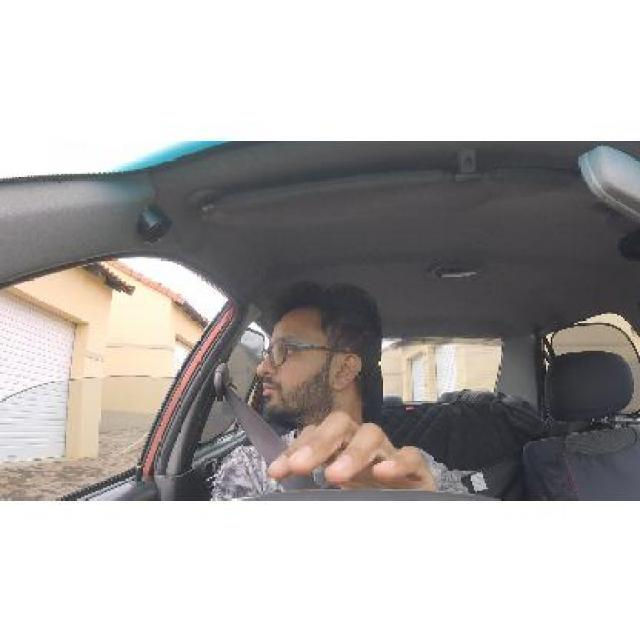LeftRight: (250, 282, 384, 424)
